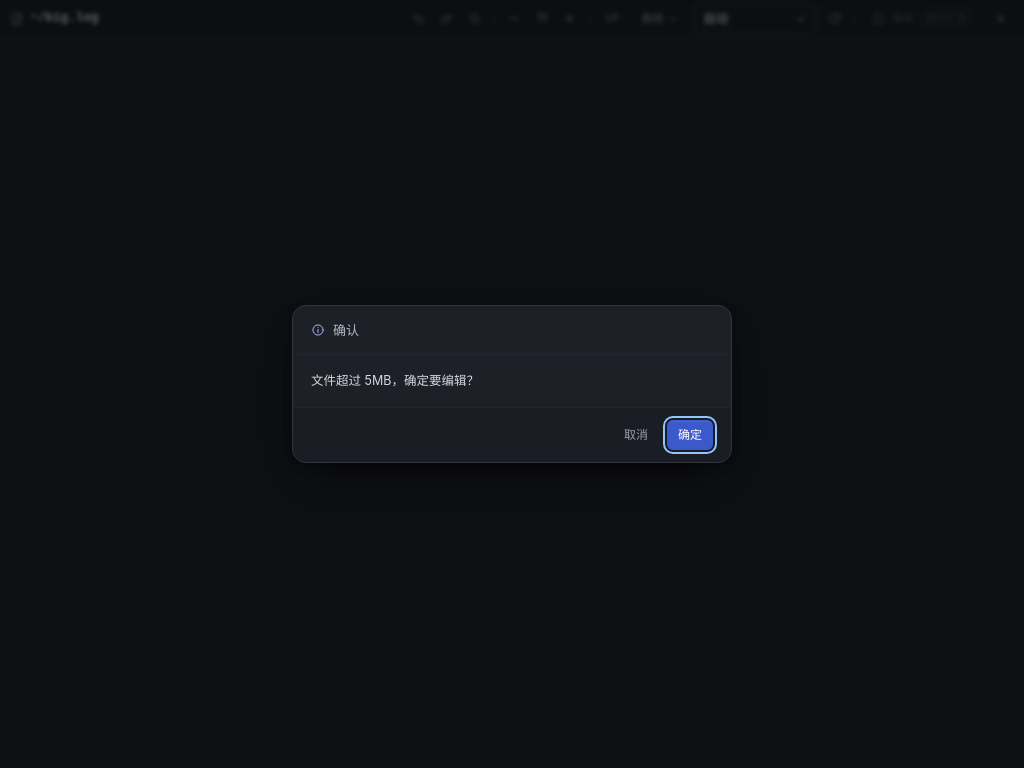
Test: delete and discard confirmations (R42 destructive dialogs) › FileEditor large-file prompt: uses an explicit info dialog for the performance notice and closes the editor on cancel
The width and height of the screenshot is (1024, 768).
Expected: the dialog with class "nx-modal" is shown, x1=292 y1=305 x2=732 y2=463
Expected: the dialog with class "nx-modal" shows "文件超过 5MB", x1=311 y1=373 x2=479 y2=388
What coordinates should you click on to do the following:
click the button "取消"
I would click on:
 (636, 435)
Its box is x1=613 y1=420 x2=659 y2=450.
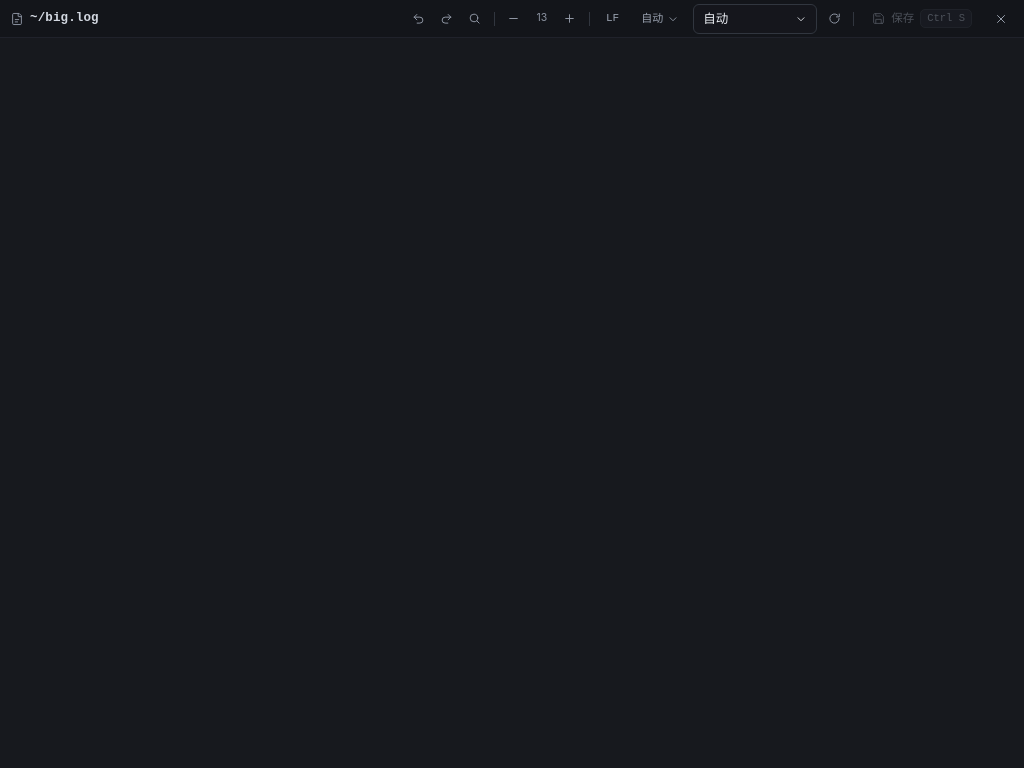
Now the dialog with class "nx-modal" is gone
